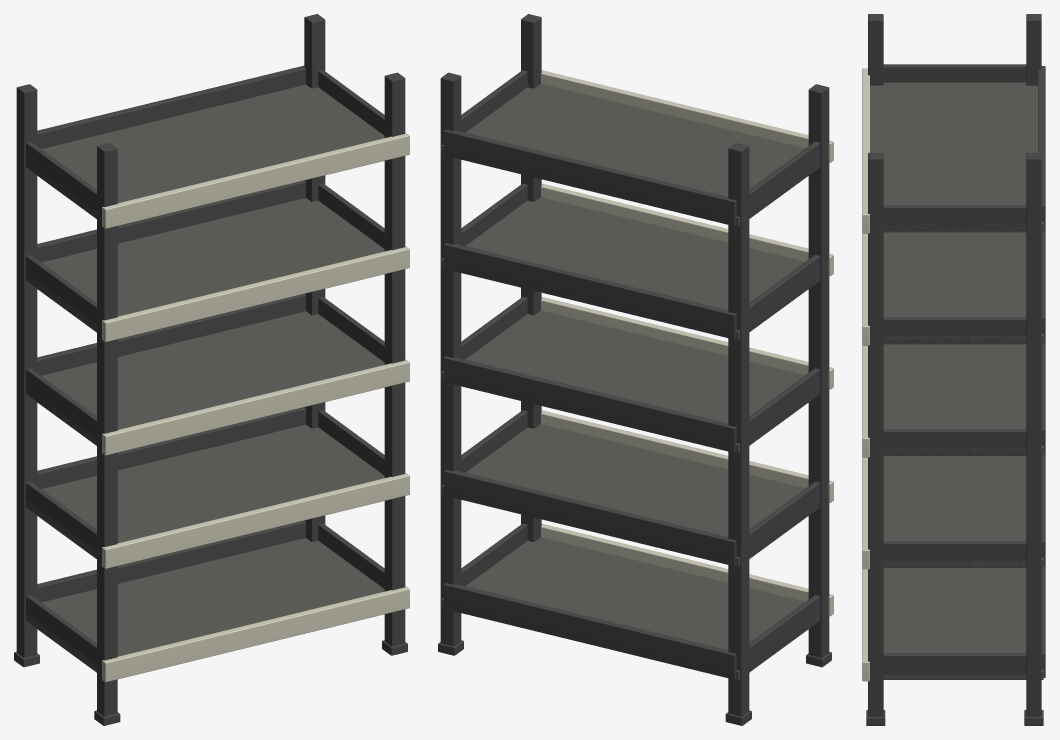
The model's file is pharmacy_display_rack.glb.
3 views of the same model, side by side, from view 1: azimuth 30°, elevation 25°; view 2: azimuth 150°, elevation 25°; view 3: azimuth 270°, elevation 25° (orthographic).
Visible parts, largest first — view 1: rack_trays, rack_frame, rack_front_strips; view 2: rack_frame, rack_trays, rack_front_strips; view 3: rack_trays, rack_frame, rack_front_strips.
Boxes of the visible parts, bbox=[...] form: rack_trays: bbox=[26, 84, 384, 672]; rack_frame: bbox=[14, 14, 407, 725]; rack_front_strips: bbox=[102, 133, 409, 682]; rack_frame: bbox=[438, 14, 831, 725]; rack_trays: bbox=[441, 84, 819, 679]; rack_front_strips: bbox=[541, 70, 833, 616]; rack_trays: bbox=[870, 82, 1043, 679]; rack_frame: bbox=[866, 14, 1045, 725]; rack_front_strips: bbox=[862, 68, 869, 681].
Bounding box in the file's own units: 0.9 × 1.62 × 0.475.
